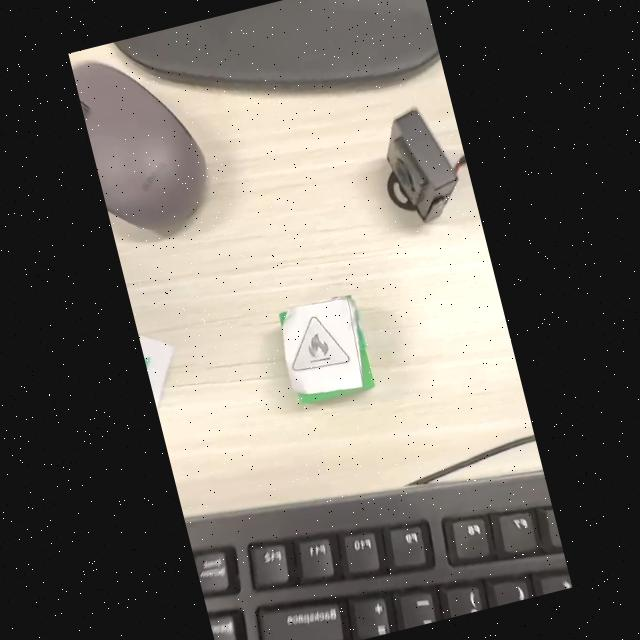Fire: (292, 316, 348, 371)
